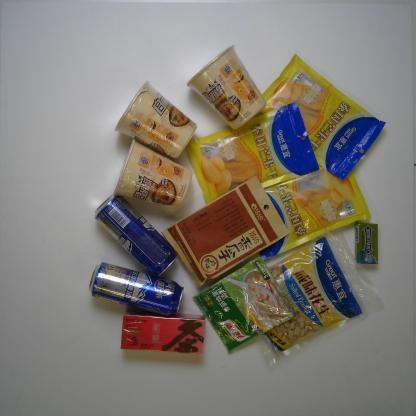Alcohol: (92, 190, 177, 276), (84, 260, 184, 315)
Dried Food: (161, 175, 289, 289)
Dried Fruit: (233, 225, 387, 368), (251, 54, 386, 179), (231, 145, 371, 260), (185, 101, 319, 207)
Gum: (354, 222, 378, 264)
Instant Drink: (115, 312, 209, 358)
Instant Noodles: (114, 80, 198, 160), (188, 45, 266, 129), (114, 139, 193, 210)
Seasoner: (192, 256, 300, 358)
